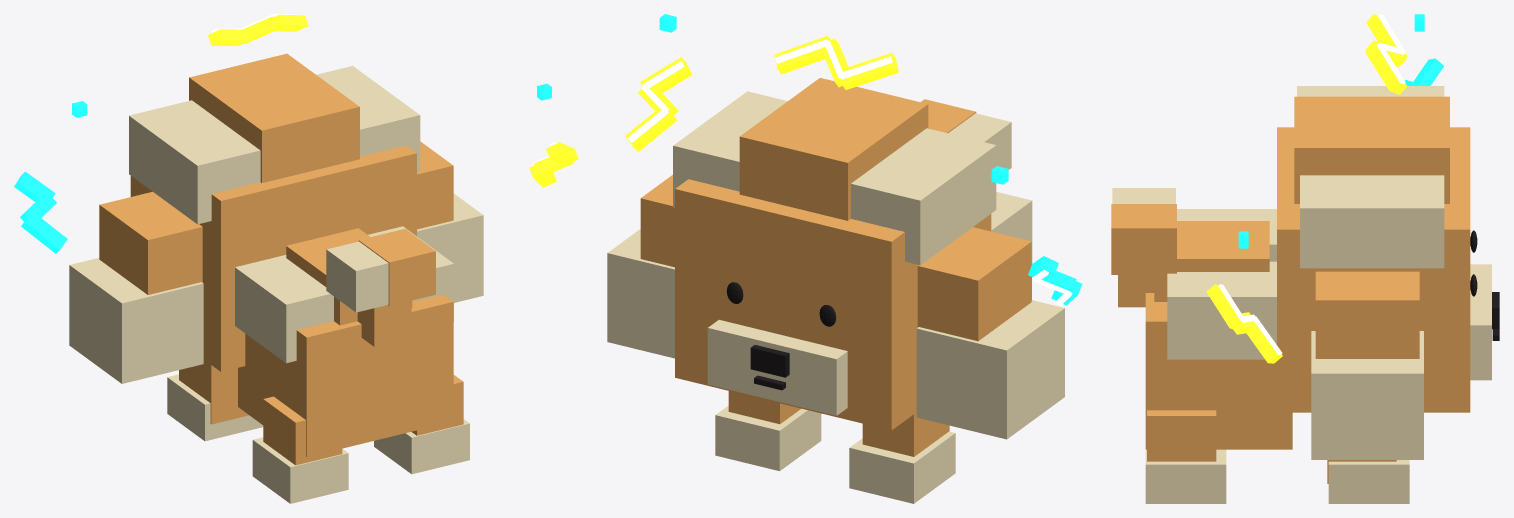
Rendered from Poodle_Block.gltf.
3 renders of one model, left to right at view 1: azimuth 30°, elevation 25°; view 2: azimuth 150°, elevation 25°; view 3: azimuth 270°, elevation 25°, orthographic. The views are drawn at different scales.
Parts seen in each view (by area): view 1: CompactTorso, CoreHead, BroadHeadPuffC, LargeEarPuffL, BroadHeadPuffL, SideEarBaseL, BodyPuffL, BroadHeadPuffR, LegBL_Paw, LargeEarPuffR, TailPuffL, TailPuffR (+11 smaller); view 2: CoreHead, BroadHeadPuffC, LargeEarPuffL, BroadHeadPuffL, SideEarBaseL, CreamMuzzle, LargeEarPuffR, BroadHeadPuffR, LegFL_Paw, LegFR_Paw, SideEarBaseR, LegFL_Leg (+9 smaller); view 3: CoreHead, BroadHeadPuffR, BroadHeadPuffC, LargeEarPuffR, CompactTorso, SideEarBaseR, BodyPuffR, BodyPuffC, TailPuffR, LegBR_Paw, LegBR_Leg, LegFR_Paw (+10 smaller).
Part boxes in pixels (x1,y1,x2,y2): CompactTorso: [238, 294, 453, 456]; CoreHead: [130, 145, 416, 371]; BroadHeadPuffC: [189, 53, 359, 182]; LargeEarPuffL: [69, 258, 203, 383]; BroadHeadPuffL: [129, 100, 260, 224]; SideEarBaseL: [99, 191, 202, 294]; BodyPuffL: [235, 255, 333, 363]; BroadHeadPuffR: [316, 66, 420, 171]; LegBL_Paw: [252, 437, 348, 503]; LargeEarPuffR: [417, 193, 483, 302]; TailPuffL: [326, 241, 388, 312]; TailPuffR: [358, 229, 435, 305]; CoreHead: [675, 179, 991, 430]; BroadHeadPuffC: [739, 78, 928, 220]; LargeEarPuffL: [916, 300, 1064, 439]; BroadHeadPuffL: [851, 128, 996, 265]; SideEarBaseL: [917, 227, 1031, 341]; CreamMuzzle: [707, 320, 847, 415]; LargeEarPuffR: [607, 229, 674, 358]; BroadHeadPuffR: [673, 91, 787, 207]; LegFL_Paw: [849, 431, 955, 503]; LegFR_Paw: [715, 405, 821, 471]; SideEarBaseR: [640, 175, 674, 267]; LegFL_Leg: [862, 412, 949, 456]; CoreHead: [1277, 127, 1470, 412]; BroadHeadPuffR: [1300, 175, 1444, 268]; BroadHeadPuffC: [1294, 96, 1449, 203]; LargeEarPuffR: [1311, 331, 1423, 459]; CompactTorso: [1145, 293, 1292, 449]; SideEarBaseR: [1315, 271, 1419, 358]; BodyPuffR: [1167, 261, 1276, 359]; BodyPuffC: [1154, 221, 1269, 301]; TailPuffR: [1111, 204, 1176, 274]; LegBR_Paw: [1145, 449, 1226, 503]; LegBR_Leg: [1147, 410, 1216, 461]; LegFR_Paw: [1328, 460, 1409, 503].
Size of the model in its own units: 4.07 by 3.18 by 2.69.
